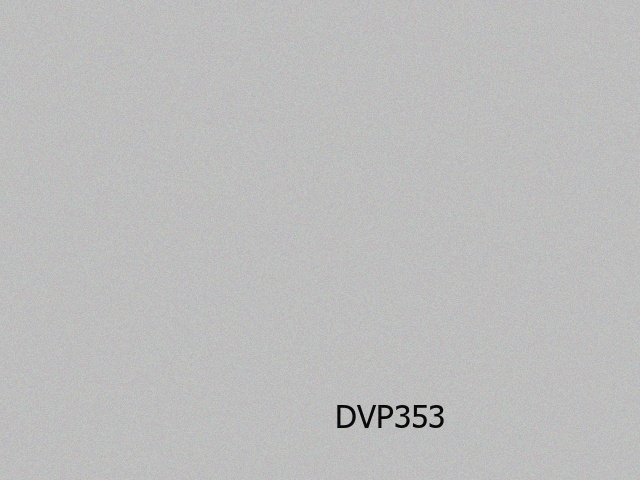OCR_AREA: (331, 401, 449, 432)
